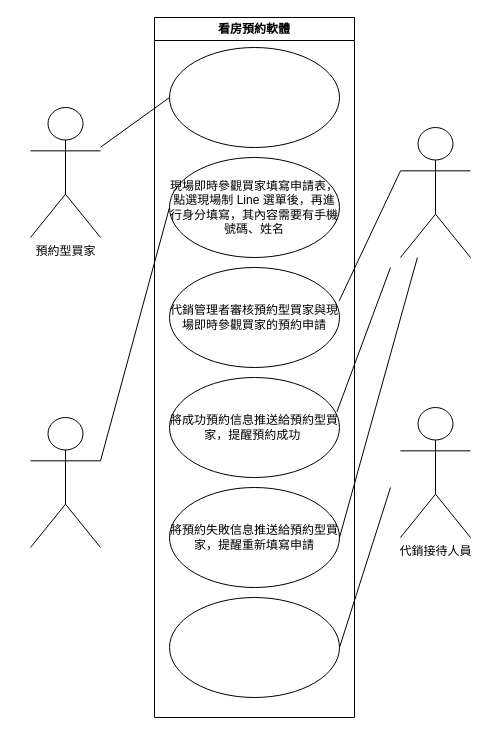
Image size: 489x735. Some labels were removed from this diagram. The centre of each missing label's shape, as x and y in pixels:
"代銷管理者" belongs at [435,192].
"根據現場參觀申請，派遣閒置的代銷進行分配，並通知買家" belongs at [254,647].
"現場即時參觀買家" belongs at [65,482].
"預約型買家填寫申請表，點選預約制 Line 選單後，再進行身分填寫，其內容需要有手機號碼、姓名與看房時段申請預約" belongs at [254,97].
